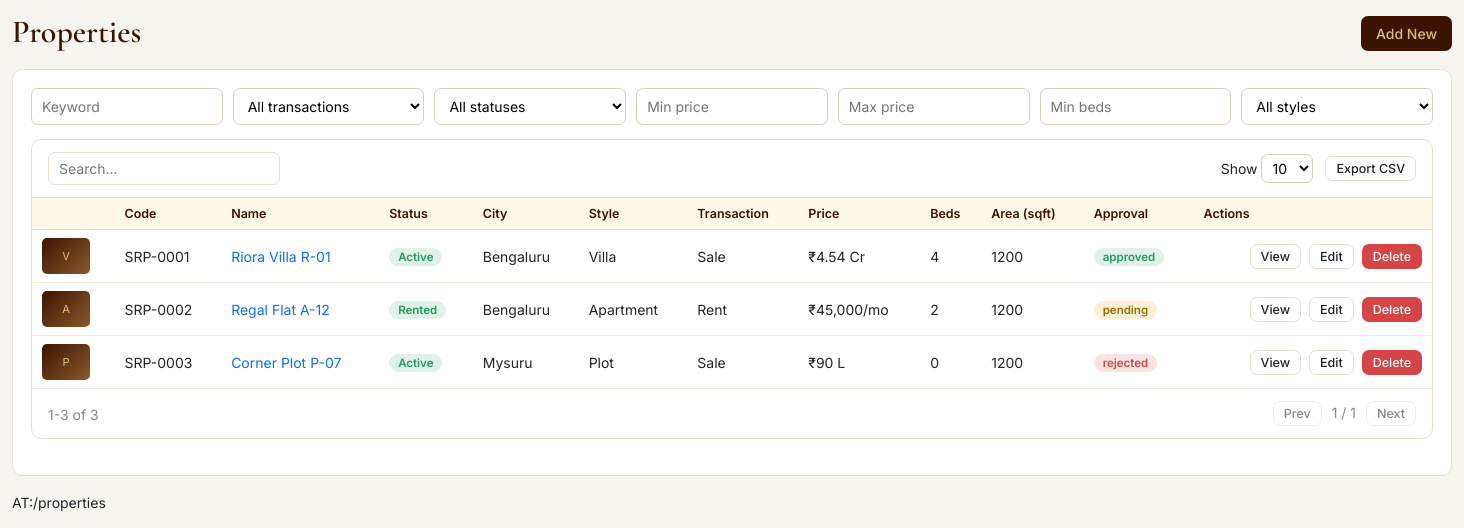
Properties list (PLAN §7) › keyword filter matches name, code, city and project (case-insensitive)
The image size is (1464, 528).
Check: the link "Riora Villa R-01" is shown, box [231,248,331,264]
Type "riora" into the field with placeholder "Keyword".
click(127, 106); type("riora")  # box [31,88,223,125]
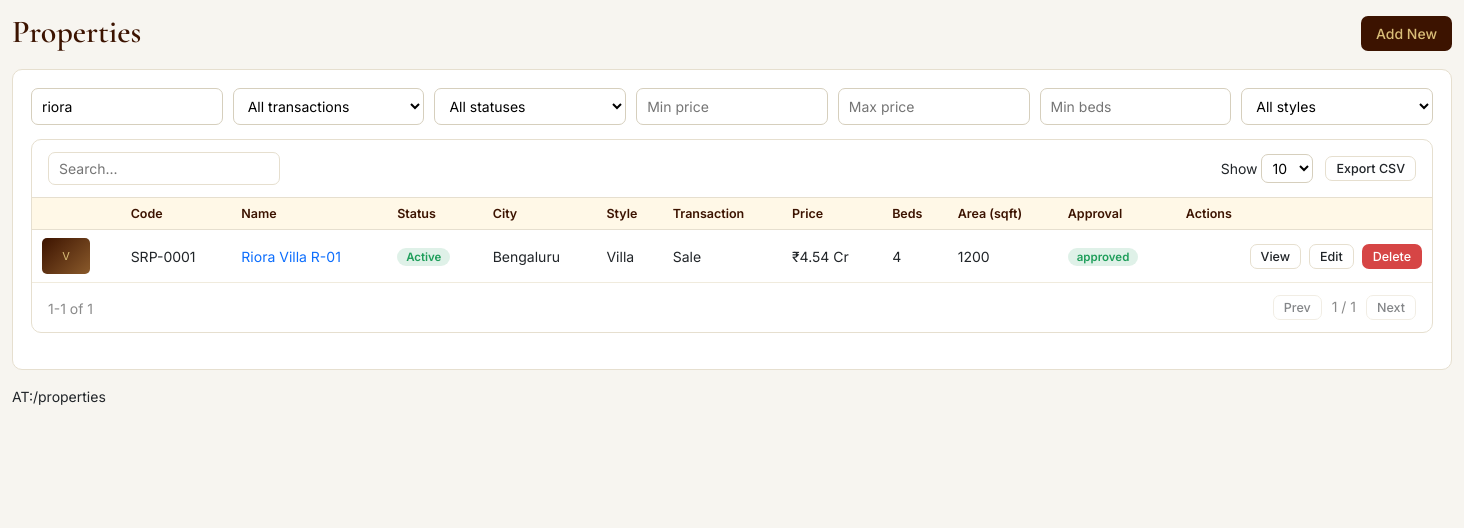
Replace the text in the 1st field with "srp-0002" at (127, 106), box [31,88,223,125]
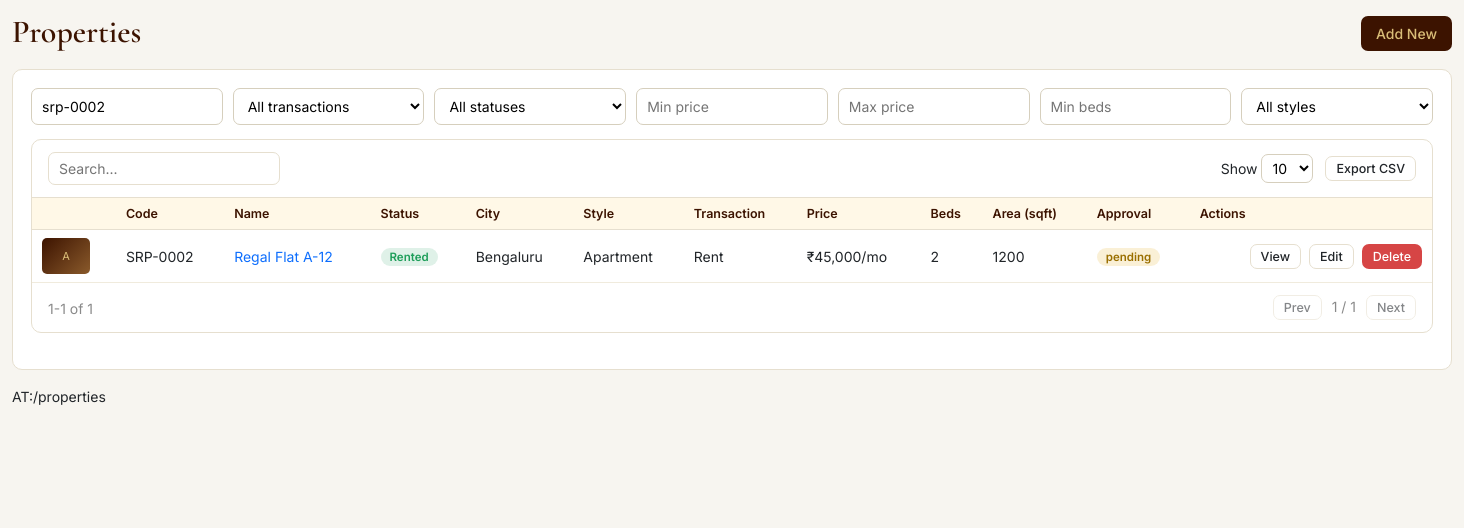
Replace the text in the 1st field with "MYSURU" at (127, 106), box [31,88,223,125]
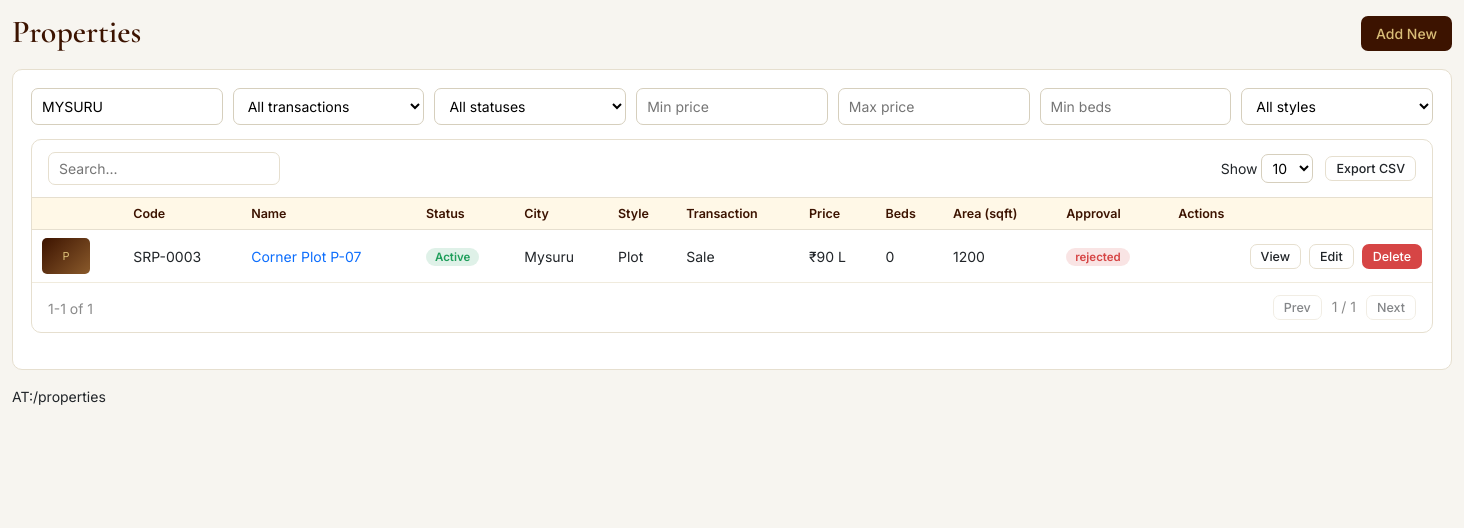
Replace the text in the 1st field with "neotown" at (127, 106), box [31,88,223,125]
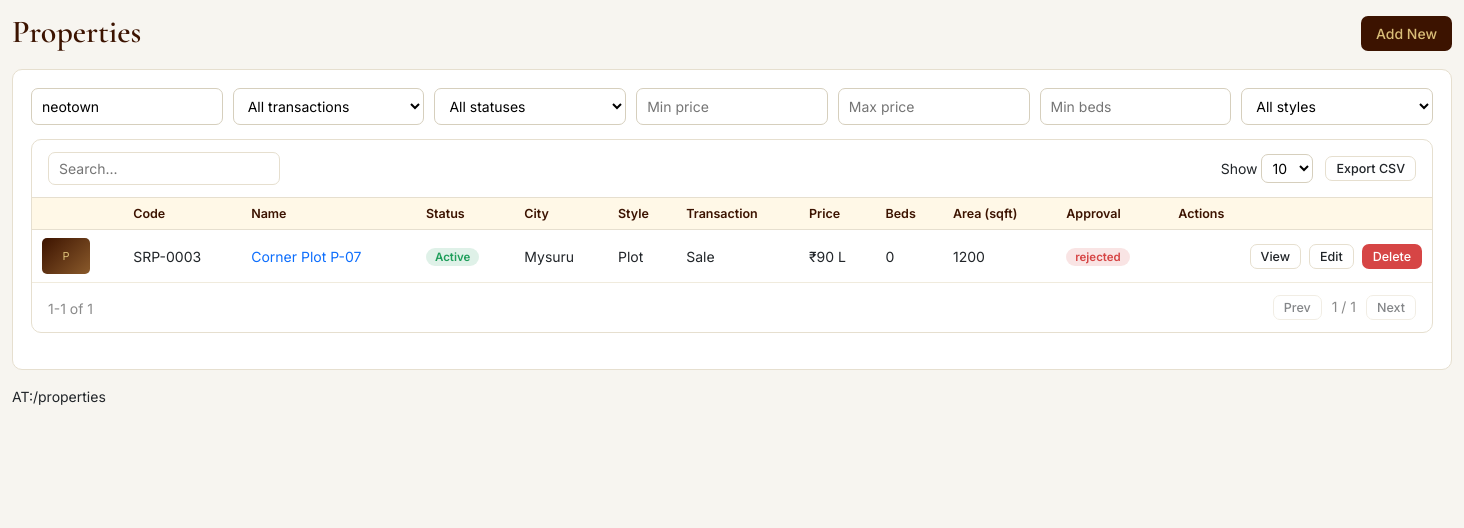
Replace the text in the 1st field with "zzz" at (127, 106), box [31,88,223,125]
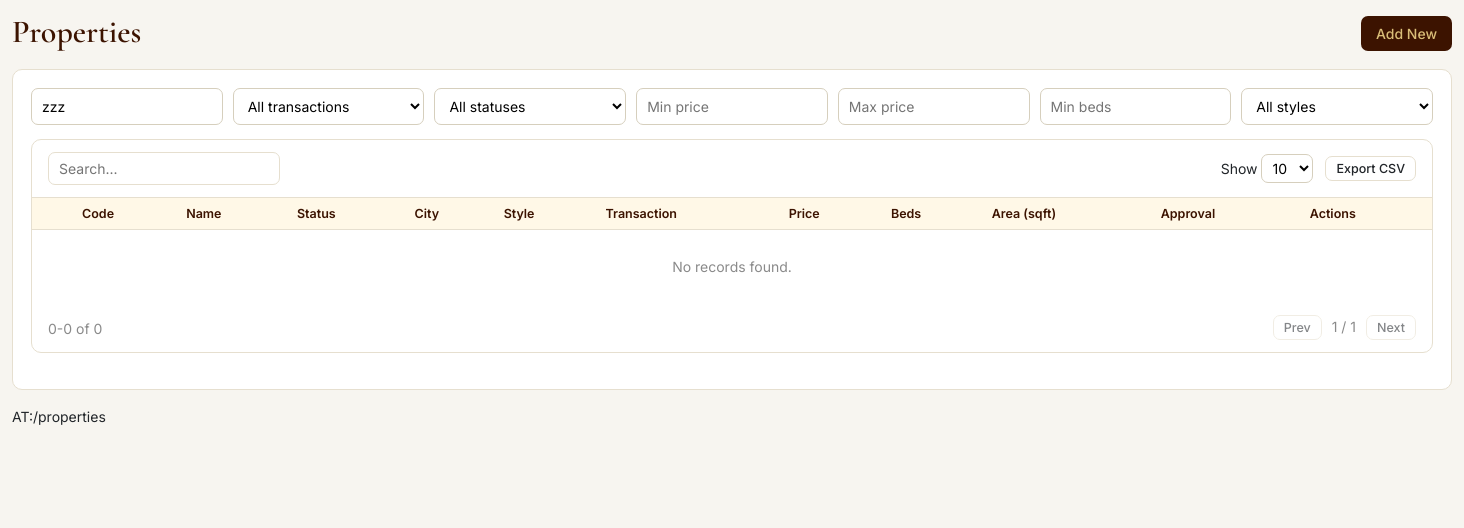
Check: the text "No records found." is shown, box [672,258,792,275]
